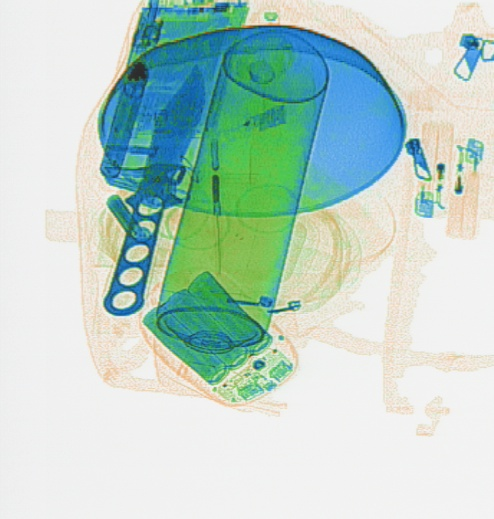knife: (101, 57, 206, 317)
lighter: (440, 136, 483, 240), (411, 117, 452, 220)
powerbank: (140, 264, 300, 405)
pressure: (151, 28, 330, 402)
